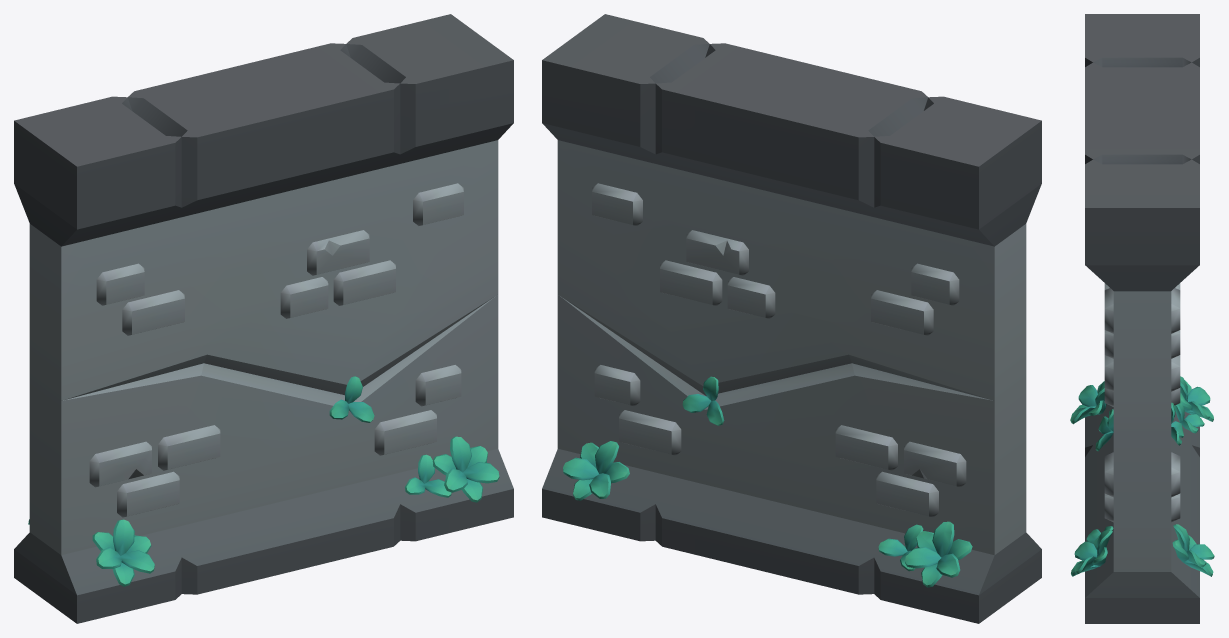
The model's file is wall_cracked.glb.
3 renders of one model, left to right at view 1: azimuth 30°, elevation 25°; view 2: azimuth 150°, elevation 25°; view 3: azimuth 270°, elevation 25°, orthographic. The views are drawn at different scales.
Visible parts, largest first — view 1: wall_cracked; view 2: wall_cracked; view 3: wall_cracked.
Boxes of the visible parts, x1,y1,x2,y2 form: wall_cracked: (14,14,513,623); wall_cracked: (542,14,1041,623); wall_cracked: (1070,14,1214,623).
Bounding box in the file's own units: 4 × 4 × 1.26.
1 material, 1 textured.
